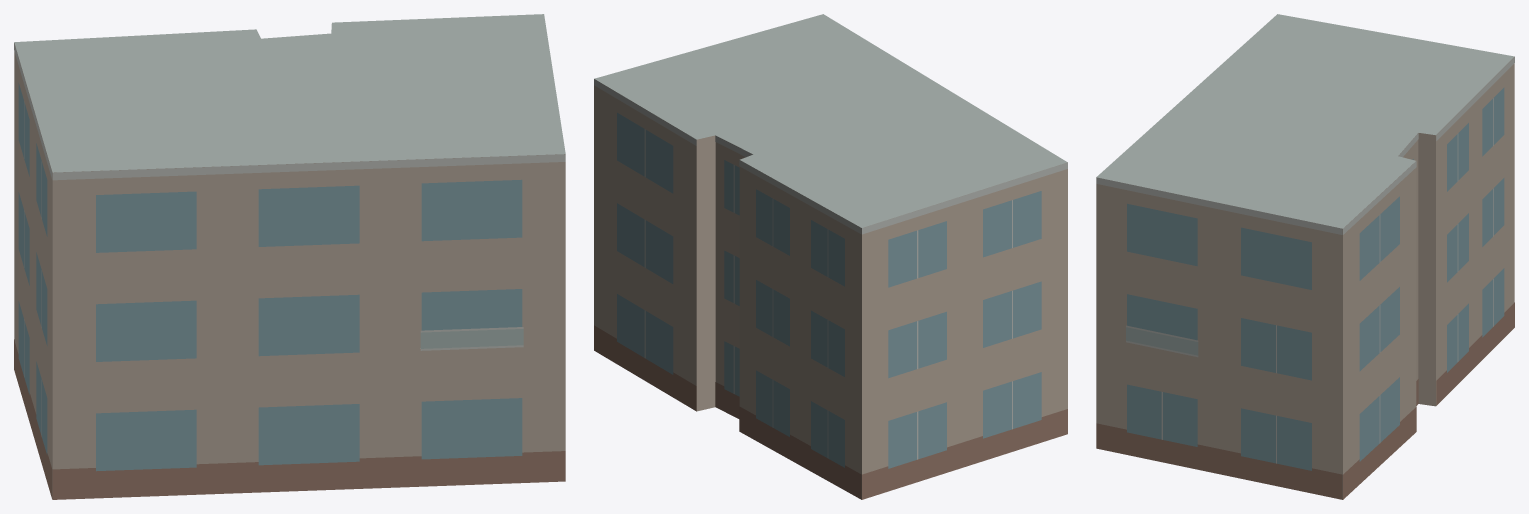
Rendered from survey-upis-32987676.glb.
3 views of the same model, side by side, from view 1: azimuth 30°, elevation 25°; view 2: azimuth 150°, elevation 25°; view 3: azimuth 270°, elevation 25° (orthographic). The views are drawn at different scales.
Parts seen in each view (by area): view 1: survey-upis-32987676.tmp; view 2: survey-upis-32987676.tmp; view 3: survey-upis-32987676.tmp.
Boxes of the visible parts, box(x1,y1,x2,y2) form: survey-upis-32987676.tmp: box(14, 14, 565, 499); survey-upis-32987676.tmp: box(594, 14, 1067, 499); survey-upis-32987676.tmp: box(1096, 14, 1514, 499).
Bounding box in the file's own units: 17.33 × 10.2 × 14.28.
